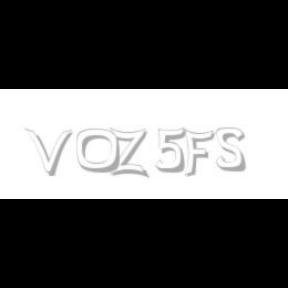5: (156, 128, 186, 174)
F: (182, 128, 214, 178)
O: (76, 128, 122, 174)
S: (216, 128, 248, 172)
V: (25, 128, 73, 176)
Z: (110, 128, 146, 178)
